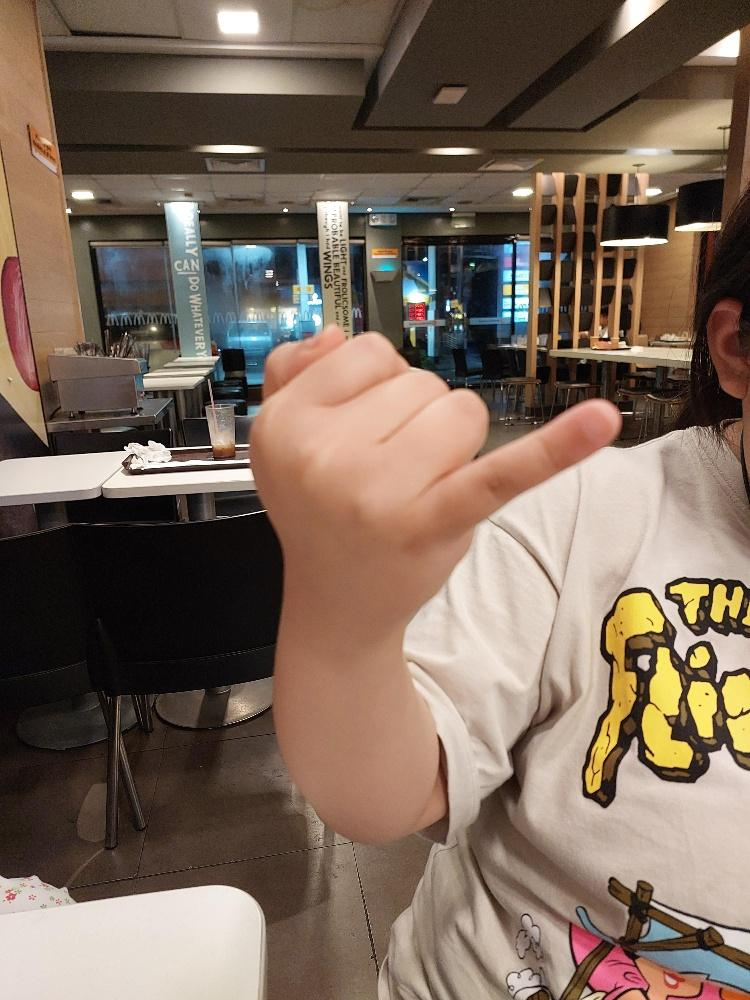j: (245, 319, 623, 648)
